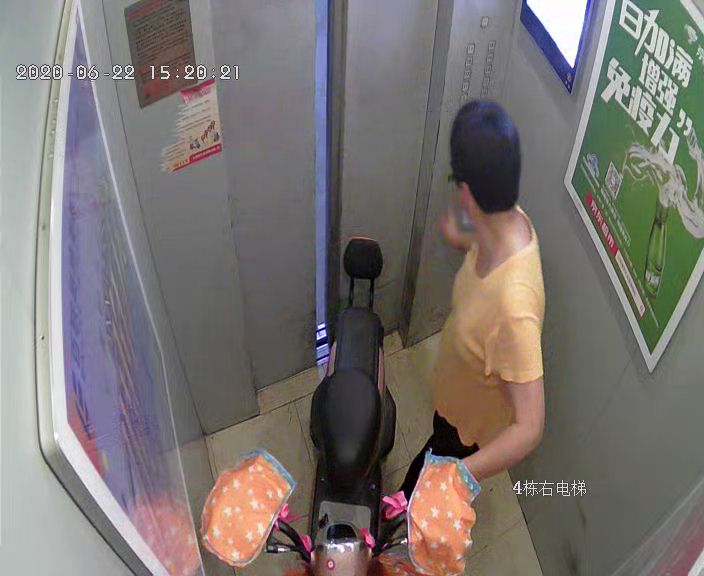Electric-bicycle: (227, 233, 445, 576)
